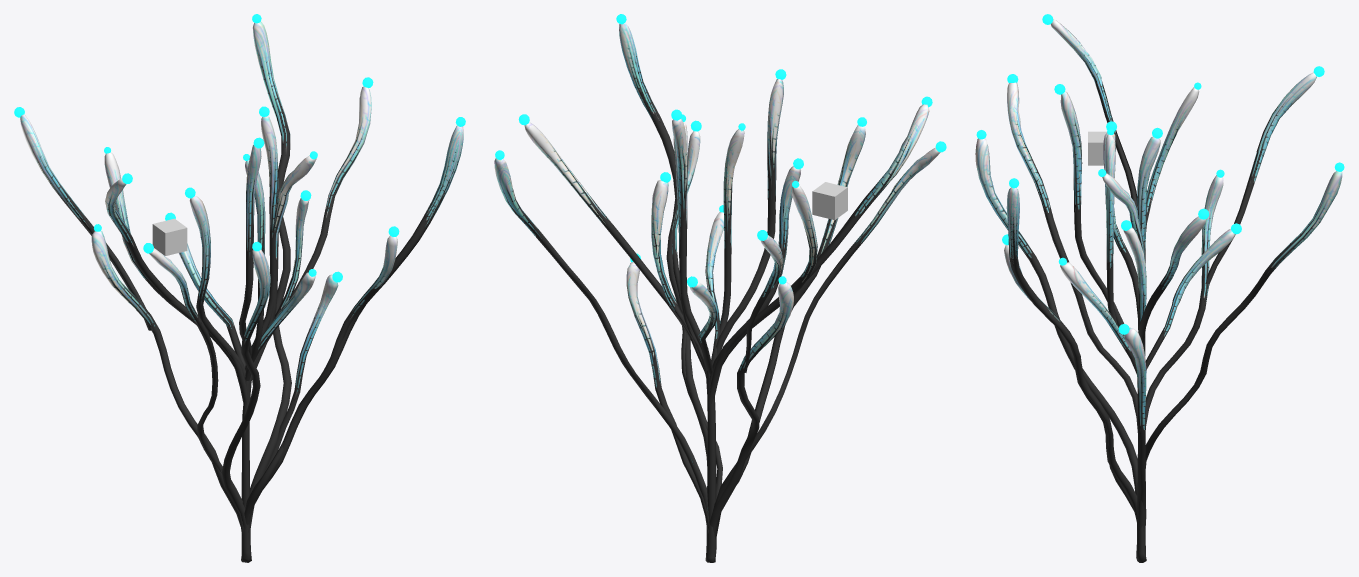
Rendered from FractalNeurals.glb.
3 views of the same model, side by side, from view 1: azimuth 30°, elevation 25°; view 2: azimuth 150°, elevation 25°; view 3: azimuth 270°, elevation 25° (orthographic).
Visible parts, largest first — view 1: NeuralFractal, Spheres, FocusTarget; view 2: NeuralFractal, Spheres, FocusTarget; view 3: NeuralFractal, Spheres, FocusTarget.
Boxes of the visible parts, left/top/right/bottom form: NeuralFractal: left=20, top=21, right=463, bottom=562; Spheres: left=14, top=14, right=465, bottom=282; FocusTarget: left=152, top=218, right=187, bottom=255; NeuralFractal: left=494, top=23, right=940, bottom=562; Spheres: left=495, top=14, right=946, bottom=287; FocusTarget: left=812, top=182, right=847, bottom=220; NeuralFractal: left=975, top=19, right=1342, bottom=562; Spheres: left=976, top=14, right=1344, bottom=334; FocusTarget: left=1088, top=131, right=1106, bottom=165.
Size of the model in its own units: 0.7466 by 1 by 0.722.
Materials: 2 (1 with a texture image).
